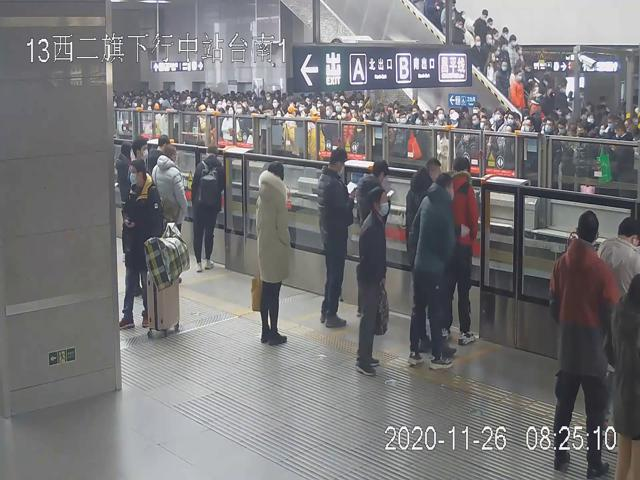person: (547, 208, 618, 480), (407, 172, 457, 372), (119, 156, 163, 328), (255, 160, 291, 348), (317, 148, 354, 328), (356, 187, 390, 377), (451, 156, 477, 348), (191, 145, 224, 271), (153, 144, 187, 234)
